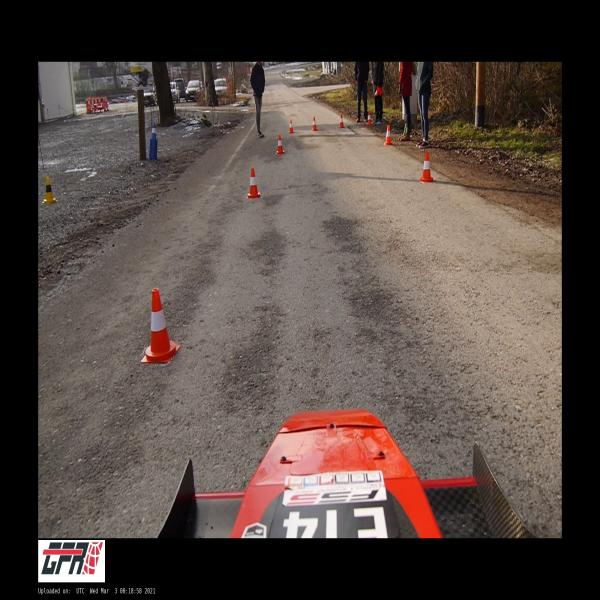blue_cone: (150, 121, 158, 141)
orange_cone: (142, 289, 180, 362), (420, 151, 434, 182), (247, 168, 261, 198), (384, 125, 392, 146), (276, 134, 284, 153), (374, 86, 383, 96), (312, 117, 318, 131), (367, 111, 372, 125), (289, 120, 294, 132), (340, 114, 344, 127)
yellow_cone: (42, 176, 57, 204)
